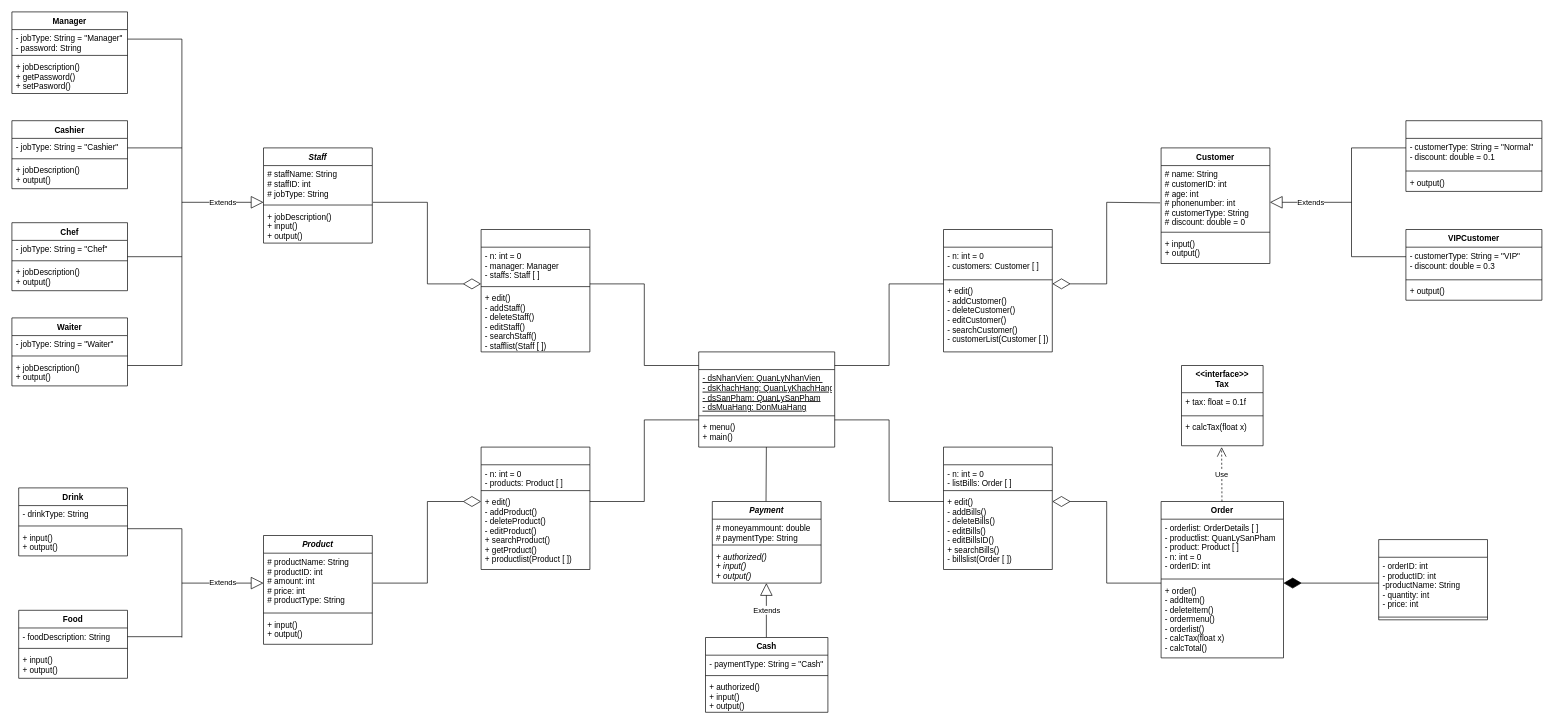
Some shapes in this 1554 by 726 pixel diagram are drawn without their labels. The box of each missing label's shape, as (x1, y1, x2, y2) in pixels:
App: (698, 351, 835, 447)
NormalCustomer: (1405, 120, 1542, 191)
OrderDetails: (1378, 539, 1488, 620)
QuanLyDonHang: (943, 446, 1052, 570)
QuanLyKhachHang: (943, 229, 1052, 352)
QuanLyNhanVien: (480, 229, 590, 352)
QuanLySanPham: (480, 446, 590, 570)
